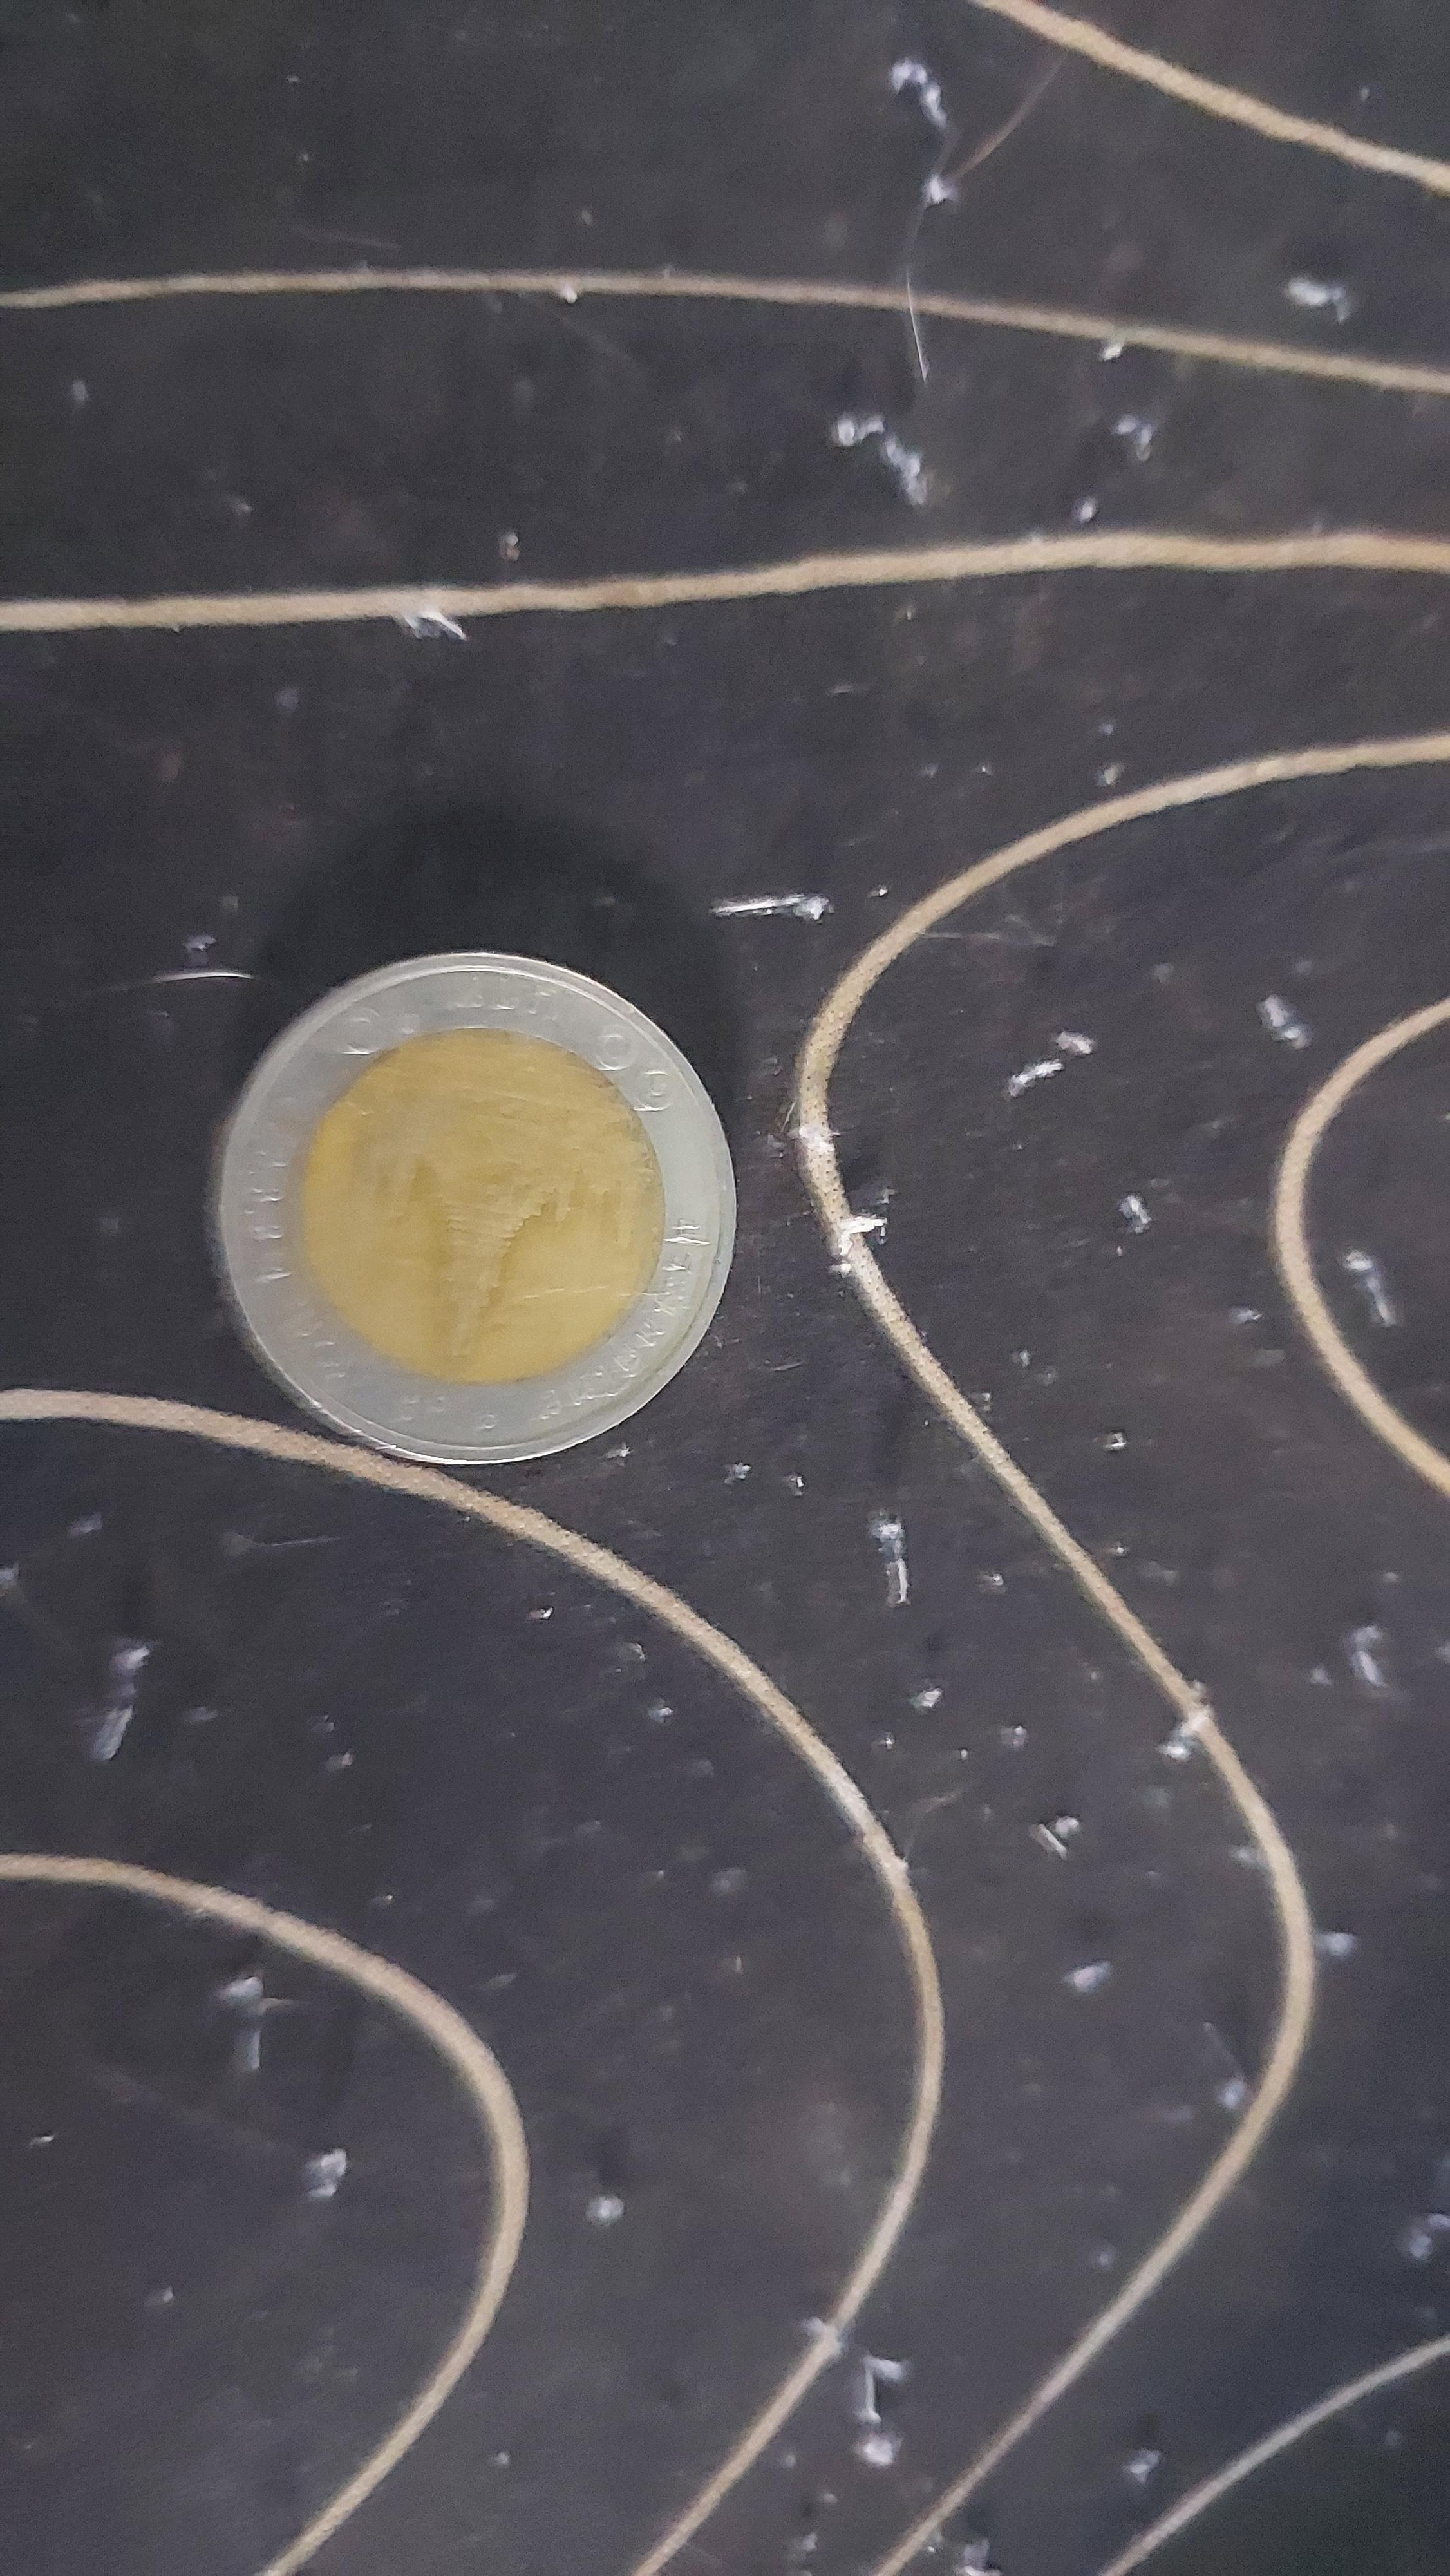10baht: (207, 892, 805, 1529)
